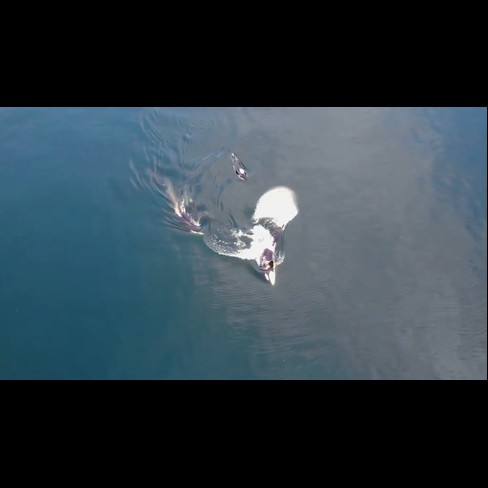orca: (235, 189, 294, 287), (155, 169, 215, 246), (221, 140, 253, 182)
